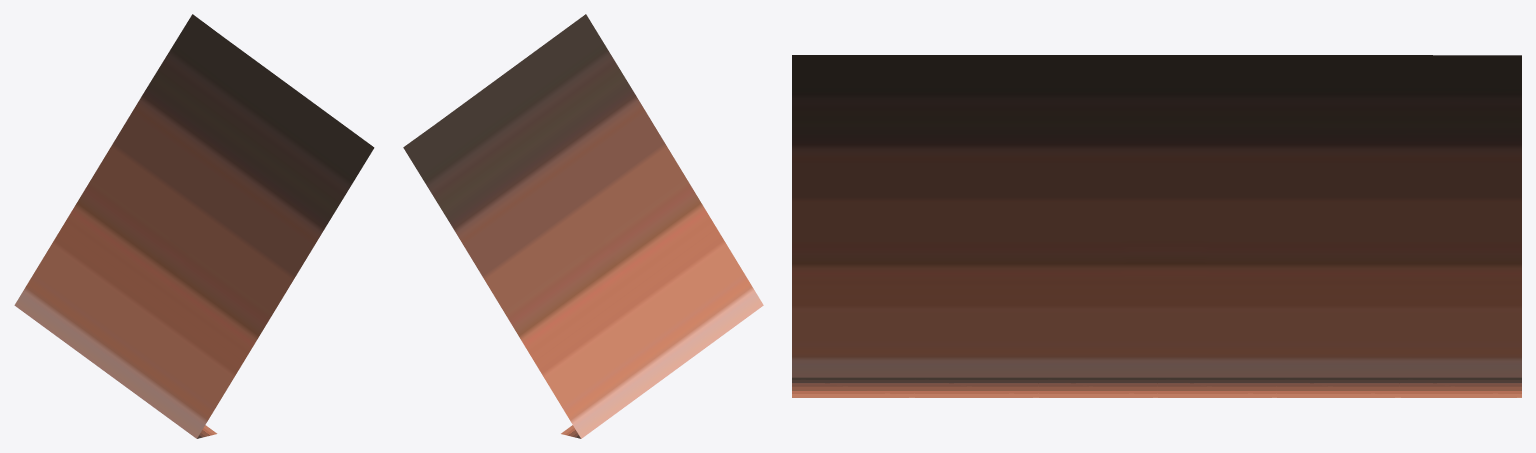
File: Roof_Base_Straight.fbx
The picture shows the model from 3 angles, left to right: view 1: azimuth 30°, elevation 25°; view 2: azimuth 150°, elevation 25°; view 3: azimuth 270°, elevation 25°; orthographic projection. The views are drawn at different scales.
Visible parts, largest first — view 1: polySurface5481; view 2: polySurface5481; view 3: polySurface5481.
Boxes of the visible parts, <box> form: polySurface5481: <box>14,14,374,438</box>; polySurface5481: <box>403,14,763,438</box>; polySurface5481: <box>792,55,1521,397</box>.
Size of the model in its own units: 225 by 300 by 400.
